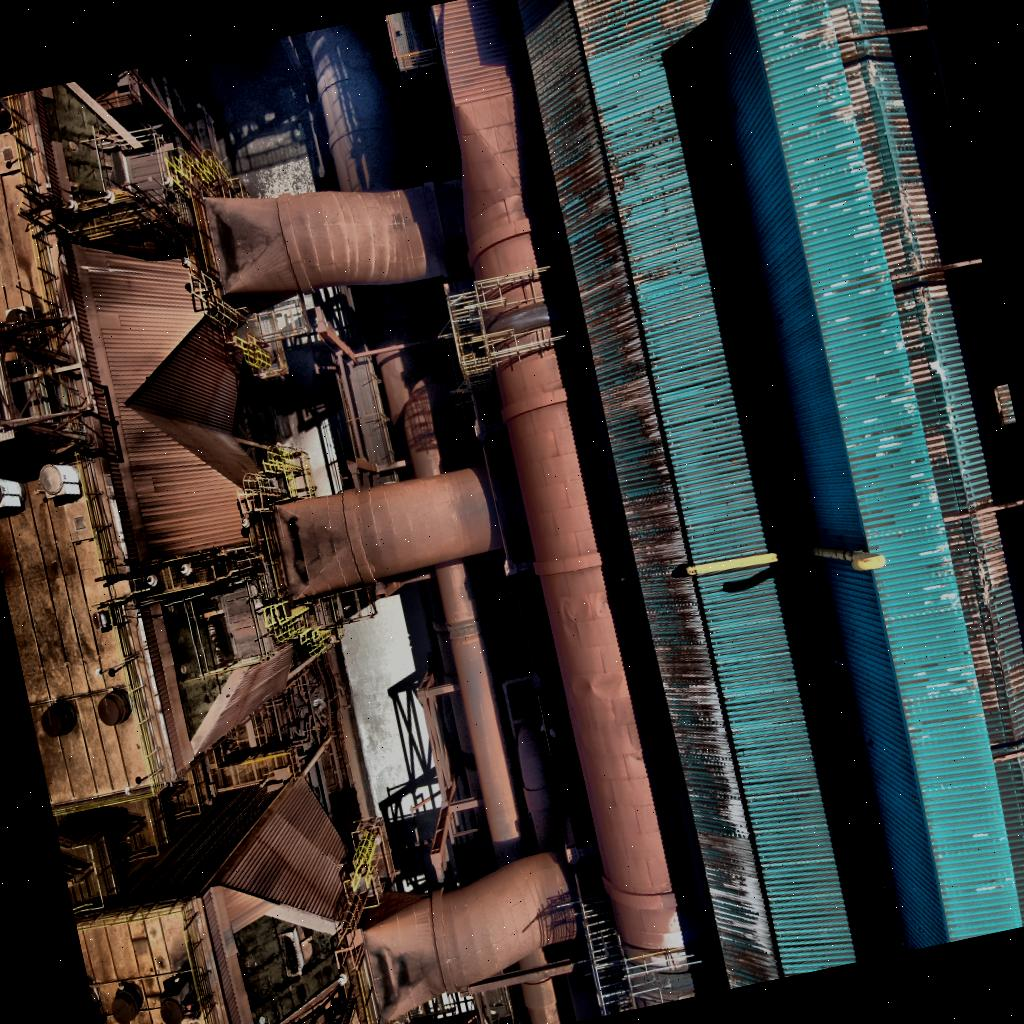Failures: (221, 895, 368, 1024), (156, 588, 260, 758), (46, 74, 144, 220)
